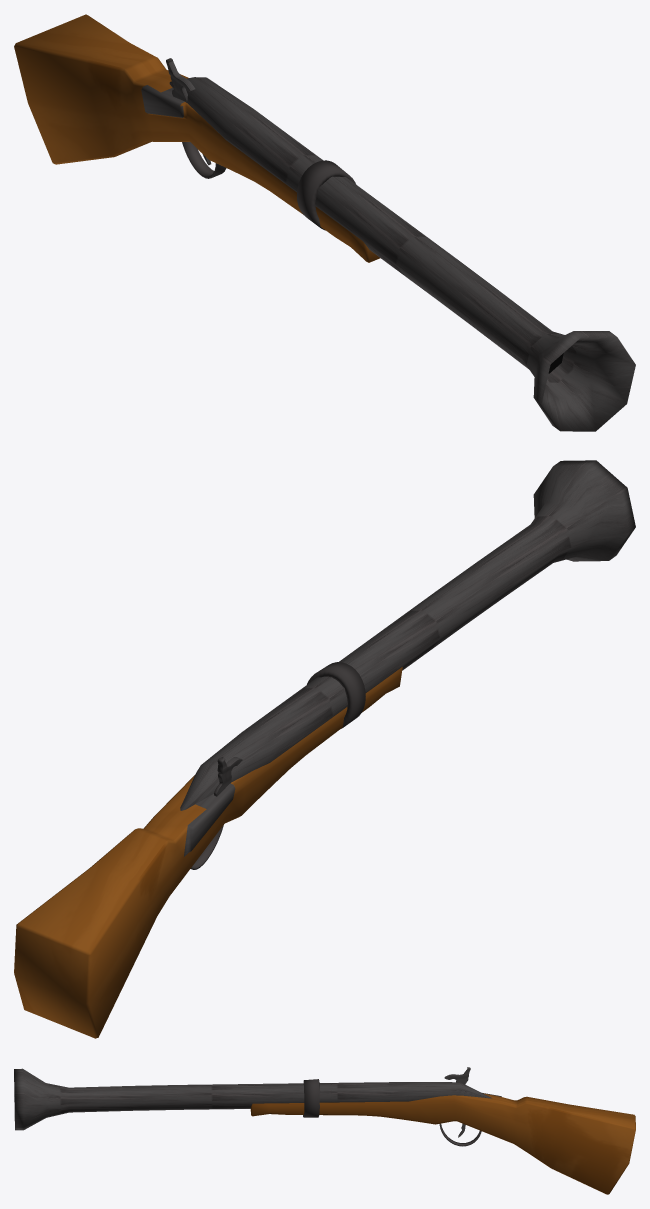
File: JstGUNfbx.fbx
3 views of the same model, one above another, from view 1: azimuth 30°, elevation 25°; view 2: azimuth 150°, elevation 25°; view 3: azimuth 270°, elevation 25° (orthographic). The views are drawn at different scales.
Parts seen in each view (by area): view 1: GUN; view 2: GUN; view 3: GUN.
Boxes of the visible parts, x1,y1,x2,y2 form: GUN: (14,14,635,431); GUN: (14,460,635,1038); GUN: (14,1067,635,1194).
Size of the model in its own units: 12.57 by 24.08 by 117.
